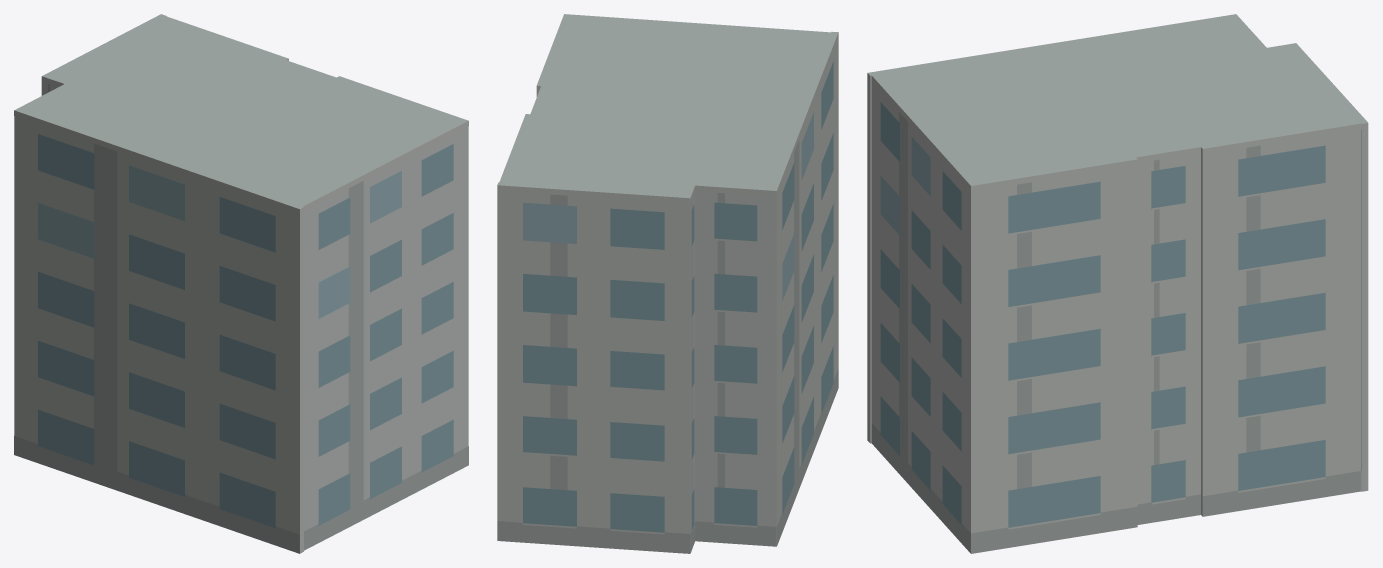
The model's file is survey-upis-32862832.glb.
3 views of the same model, side by side, from view 1: azimuth 30°, elevation 25°; view 2: azimuth 150°, elevation 25°; view 3: azimuth 270°, elevation 25° (orthographic). The views are drawn at different scales.
Visible parts, largest first — view 1: survey-upis-32862832.tmp; view 2: survey-upis-32862832.tmp; view 3: survey-upis-32862832.tmp.
Part boxes in pixels (bbox=[...]): survey-upis-32862832.tmp: bbox=[14, 14, 468, 553]; survey-upis-32862832.tmp: bbox=[497, 14, 838, 553]; survey-upis-32862832.tmp: bbox=[867, 14, 1368, 553].
Bounding box in the file's own units: 15.19 × 15.13 × 18.69.
